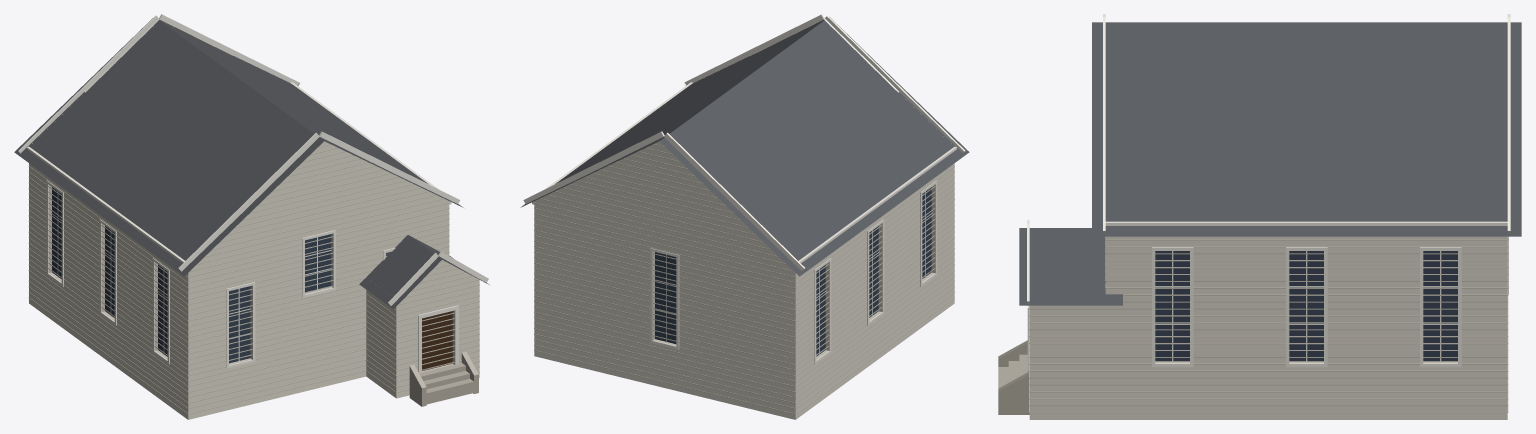
The model's file is ch-twenty-eighth-street-methodist-1913.glb.
3 views of the same model, side by side, from view 1: azimuth 30°, elevation 25°; view 2: azimuth 150°, elevation 25°; view 3: azimuth 270°, elevation 25° (orthographic). The views are drawn at different scales.
Visible parts, largest first — view 1: ch_brick, ch_roof, ch_brick2, ch_trim, ch_stain, ch_conc, ch_door; view 2: ch_brick, ch_roof, ch_brick2, ch_trim, ch_stain; view 3: ch_roof, ch_brick, ch_brick2, ch_stain, ch_trim, ch_conc.
Boxes of the visible parts, left/top/right/bottom form: ch_brick: left=29, top=141, right=479, bottom=419; ch_roof: left=14, top=18, right=489, bottom=309; ch_brick2: left=28, top=26, right=479, bottom=414; ch_trim: left=18, top=14, right=488, bottom=373; ch_stain: left=52, top=187, right=330, bottom=363; ch_conc: left=409, top=351, right=478, bottom=406; ch_door: left=422, top=311, right=452, bottom=370; ch_brick: left=534, top=141, right=954, bottom=419; ch_roof: left=520, top=17, right=969, bottom=276; ch_brick2: left=534, top=26, right=954, bottom=414; ch_trim: left=523, top=14, right=965, bottom=364; ch_stain: left=655, top=187, right=931, bottom=356; ch_roof: left=1019, top=22, right=1521, bottom=305; ch_brick: left=1029, top=236, right=1507, bottom=419; ch_brick2: left=1029, top=237, right=1508, bottom=413; ch_stain: left=1155, top=251, right=1457, bottom=361; ch_trim: left=1027, top=14, right=1510, bottom=371; ch_conc: left=998, top=340, right=1029, bottom=414.
Size of the model in its own units: 11.83 by 10.41 by 15.1.
